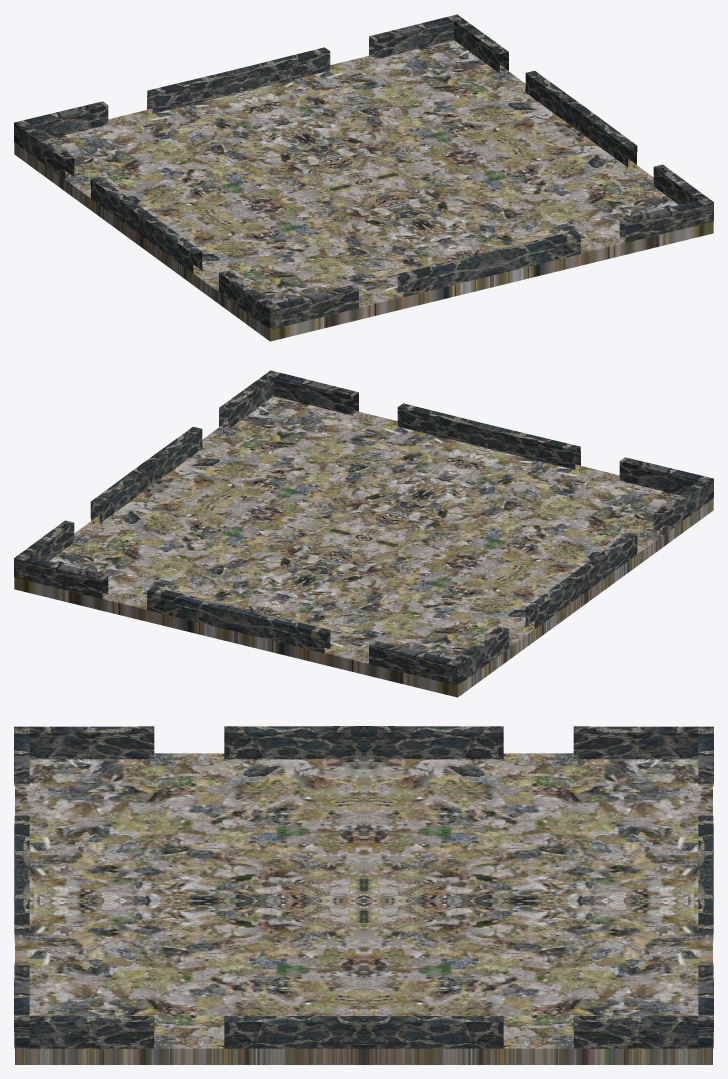
The model's file is level_tile_0.glb.
3 views of the same model, one above another, from view 1: azimuth 30°, elevation 25°; view 2: azimuth 150°, elevation 25°; view 3: azimuth 270°, elevation 25° (orthographic). The views are drawn at different scales.
Visible parts, largest first — view 1: ground, wall; view 2: ground, wall; view 3: ground, wall.
Part boxes in pixels (bbox=[...]): ground: bbox=[14, 40, 713, 341]; wall: bbox=[14, 14, 713, 329]; ground: bbox=[14, 396, 713, 697]; wall: bbox=[14, 370, 713, 685]; ground: bbox=[15, 753, 712, 1064]; wall: bbox=[14, 726, 713, 1048].
Bounding box in the file's own units: 40.09 × 2.72 × 40.05.
2 materials, 2 textured.
